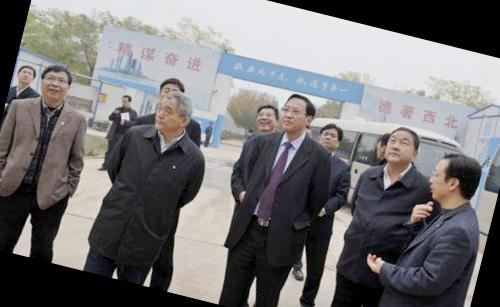no_helmet: (422, 145, 487, 215), (376, 118, 425, 174), (148, 85, 197, 137), (275, 86, 320, 139), (34, 58, 78, 108), (151, 74, 188, 112), (249, 98, 282, 138), (314, 118, 347, 156), (12, 60, 39, 92), (117, 92, 135, 112)
